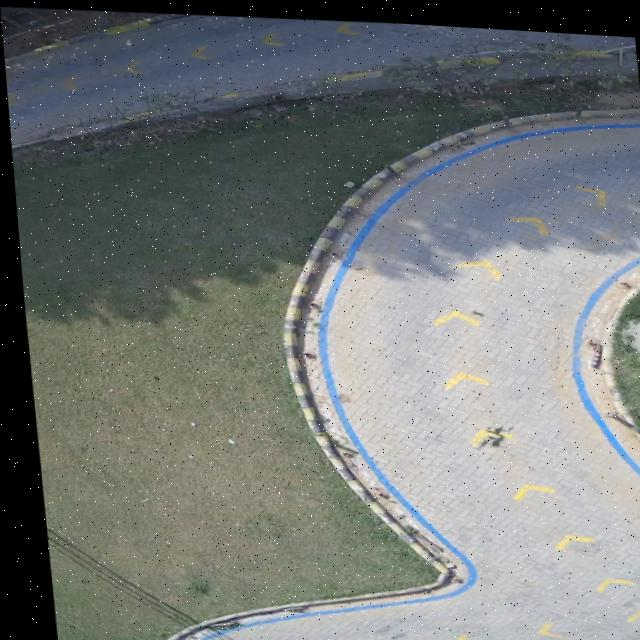No Car: (0, 6, 640, 640)
